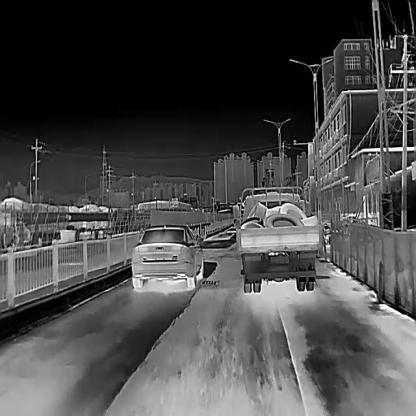car: (237, 186, 322, 293), (131, 224, 203, 289)
